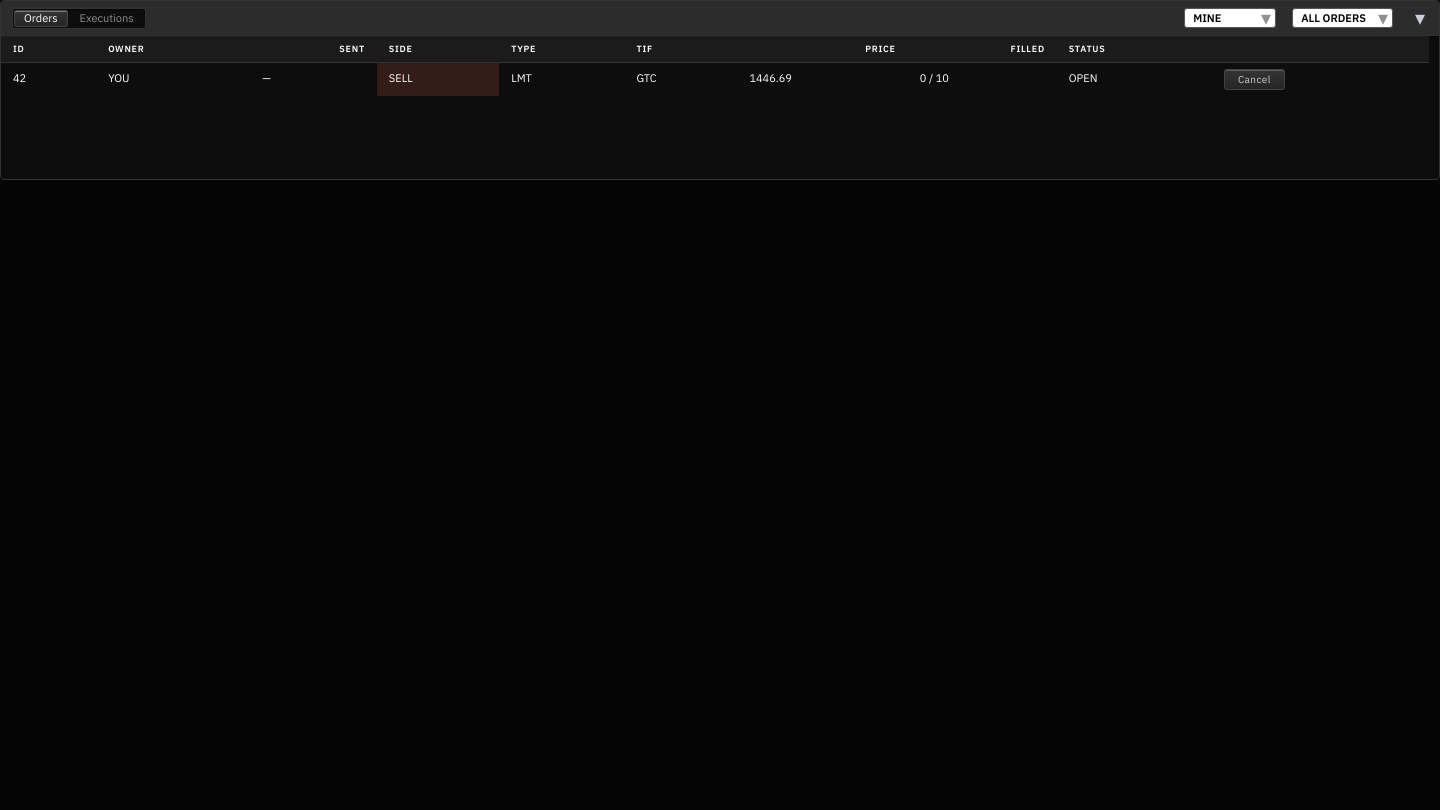
blotter cancel confirmation (D5) › closes without cancelling on Escape, the exit, and an outside click
Click the button with test id "cancel-42".
click(1254, 79)  # box [1224,69,1285,90]
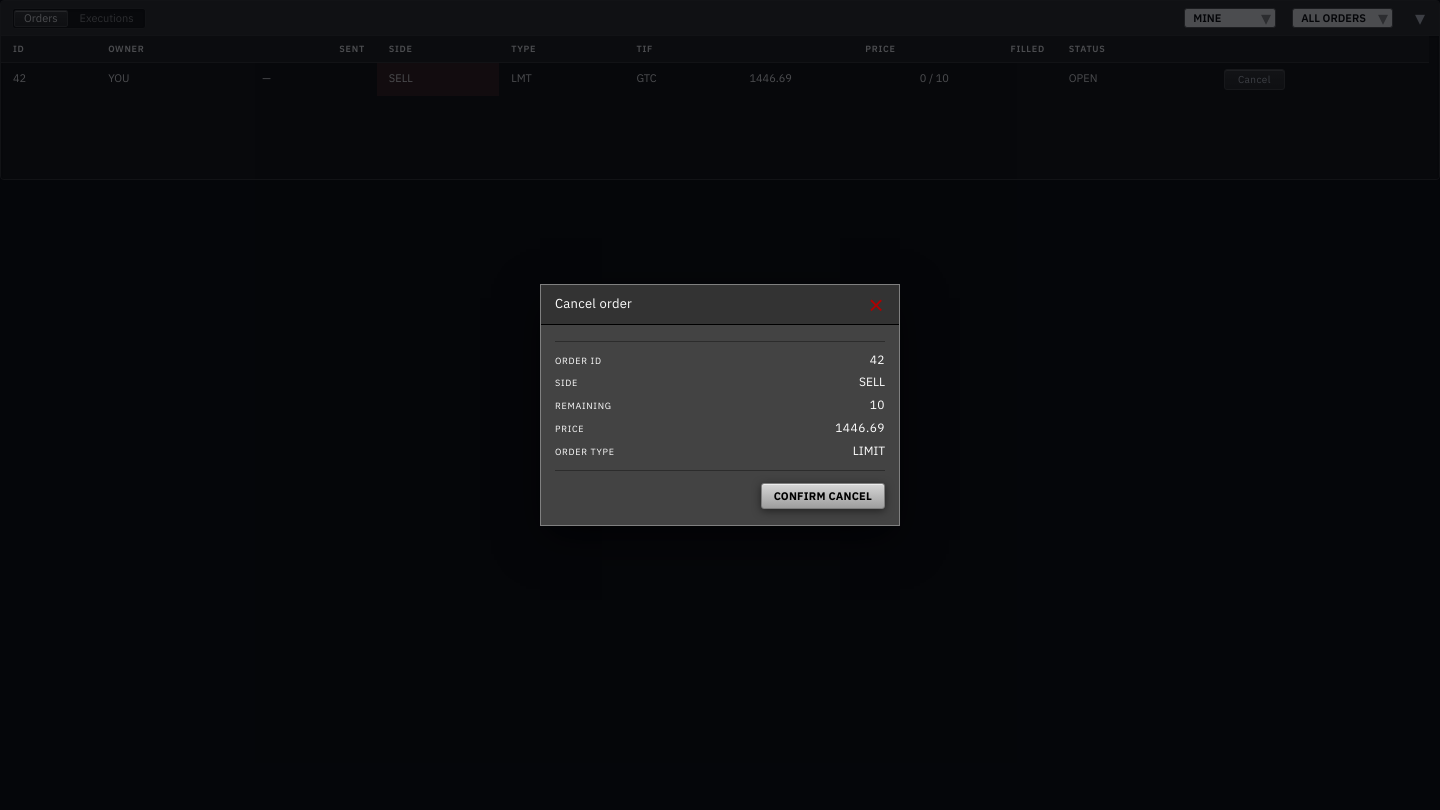
Press Escape
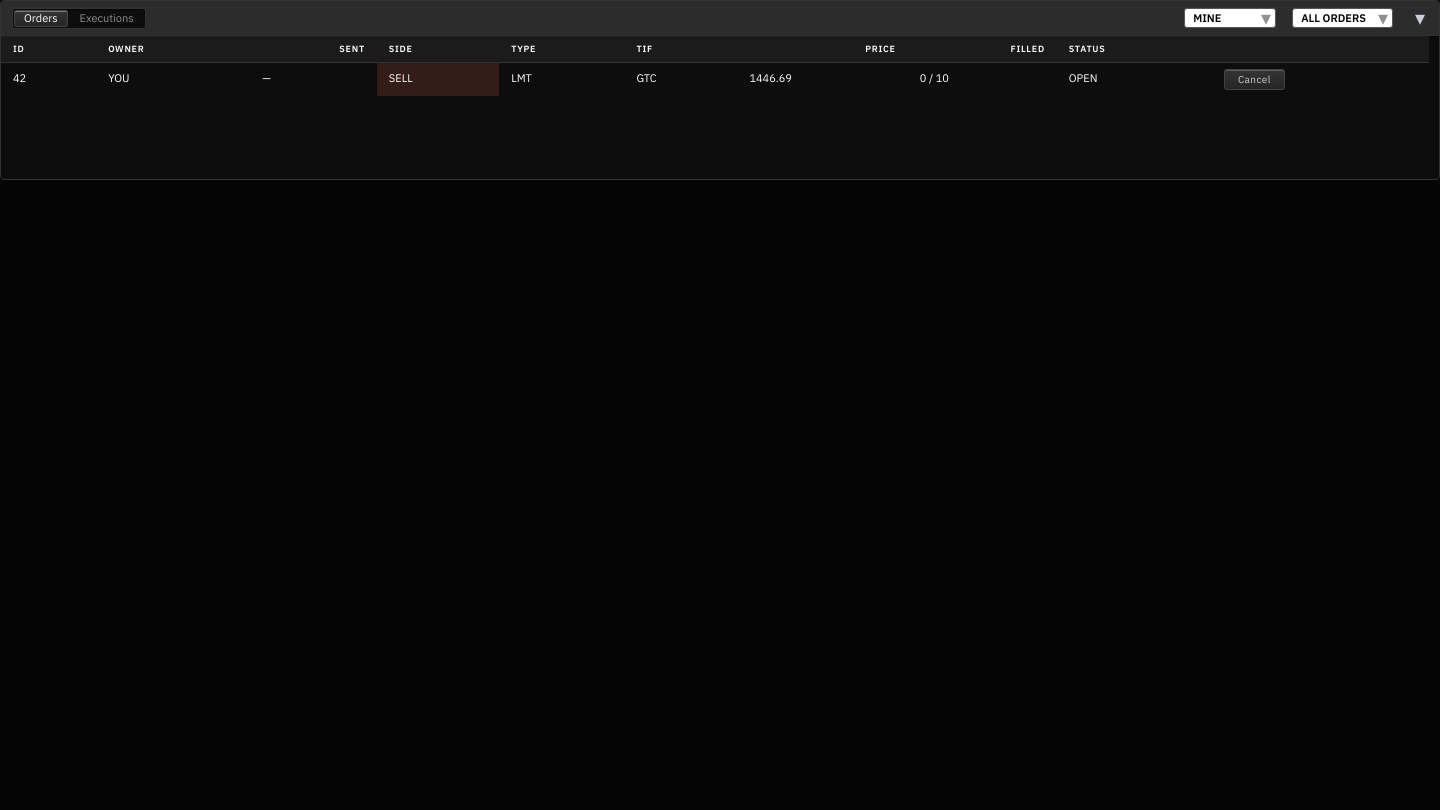
Expected: the dialog with test id "cancel-confirm" is gone
Click the button with test id "cancel-42".
click(1254, 79)  # box [1224,69,1285,90]
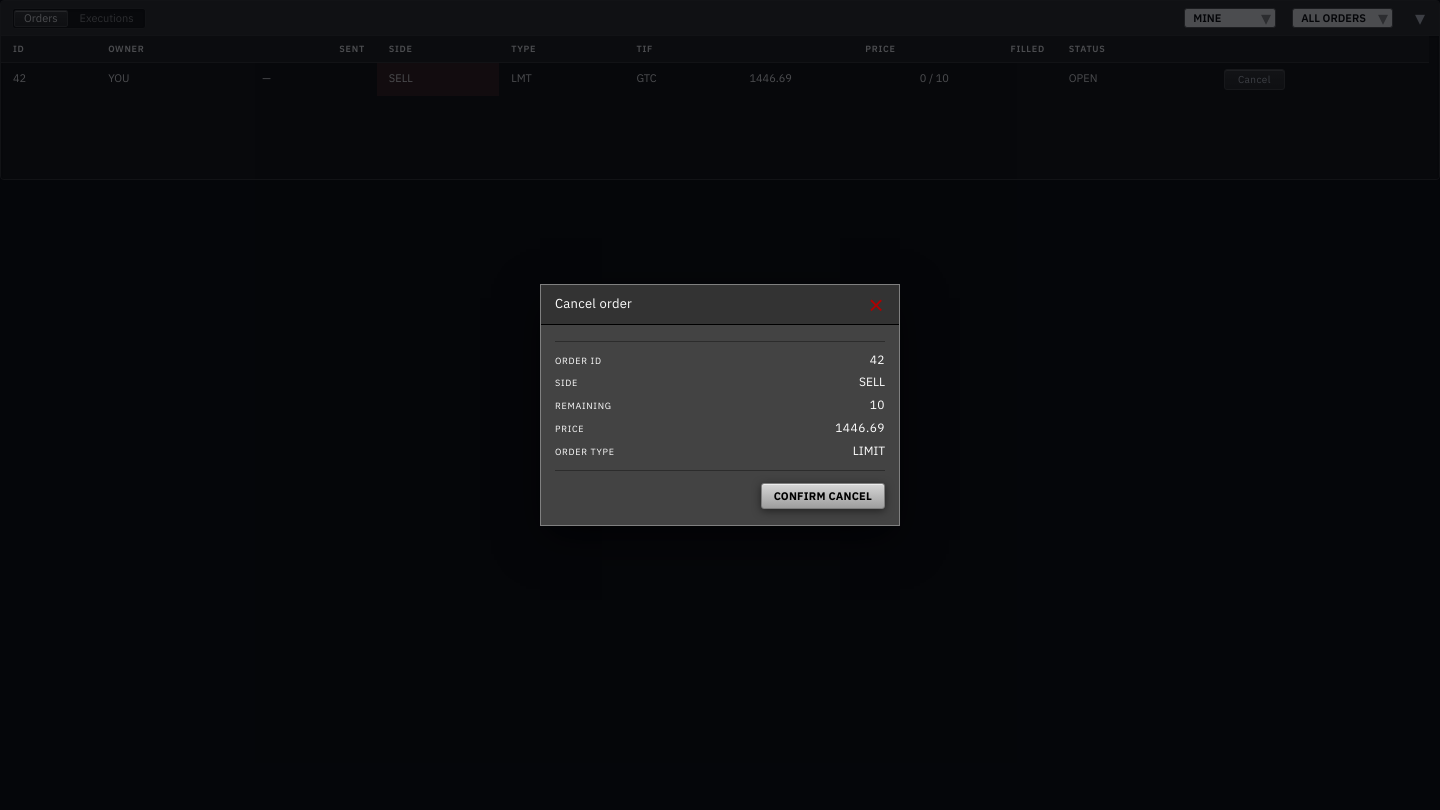
Click the button with test id "cancel-confirm-close".
click(876, 304)  # box [861,290,891,320]
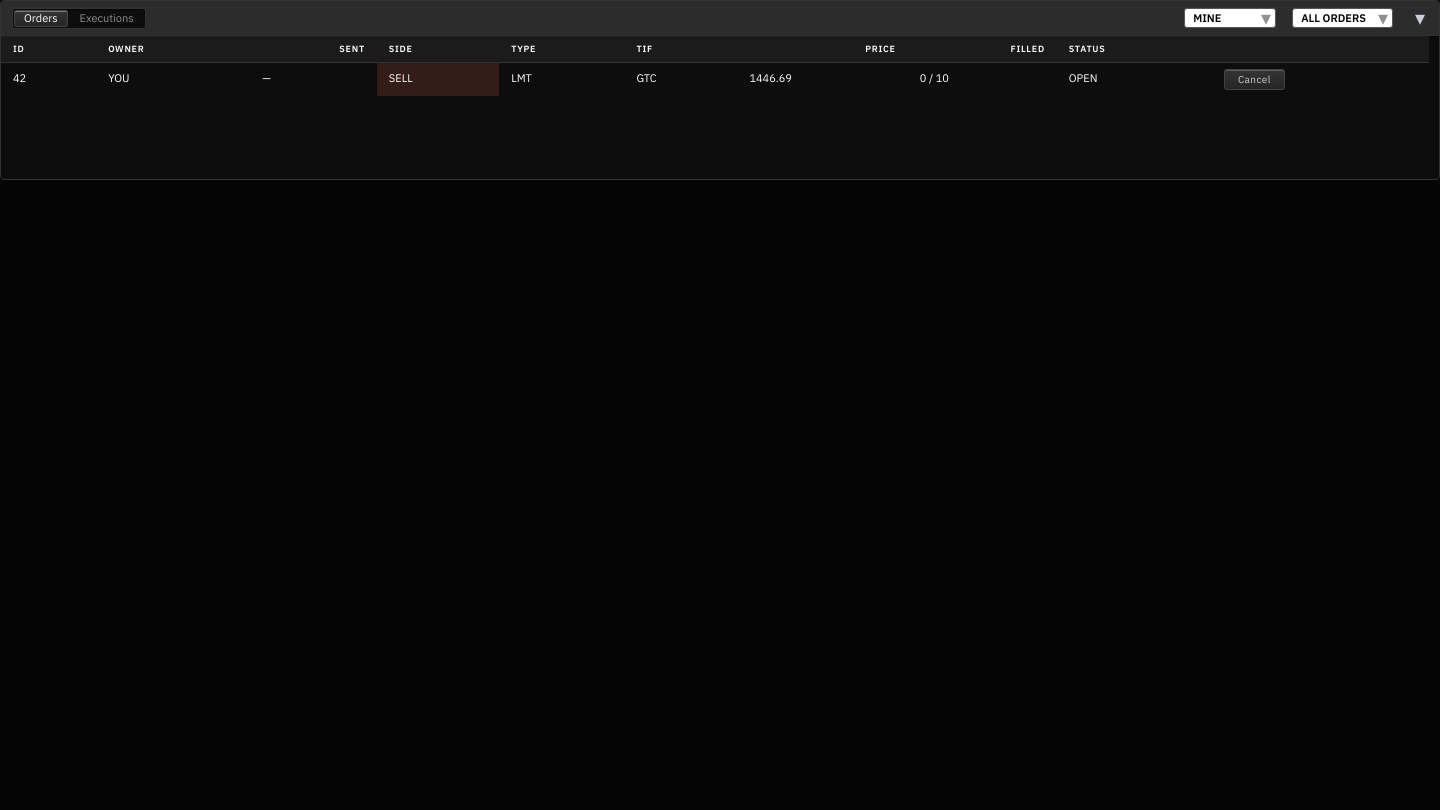
Expected: the dialog with test id "cancel-confirm" is gone
Click the button with test id "cancel-42".
click(1254, 79)  # box [1224,69,1285,90]
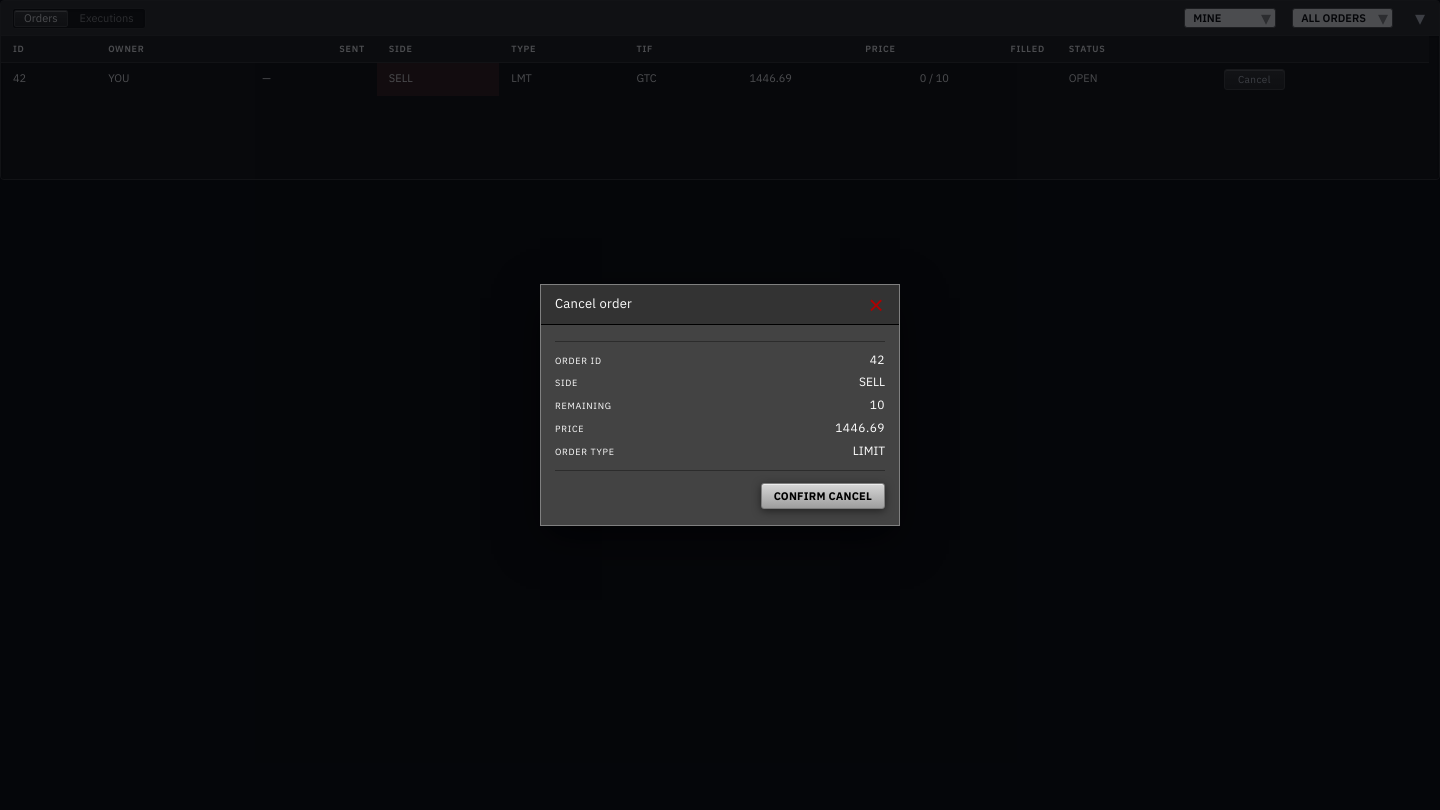
Press the mouse on the element with test id "cancel-confirm-overlay" at (720, 405), box [0,0,1439,809]
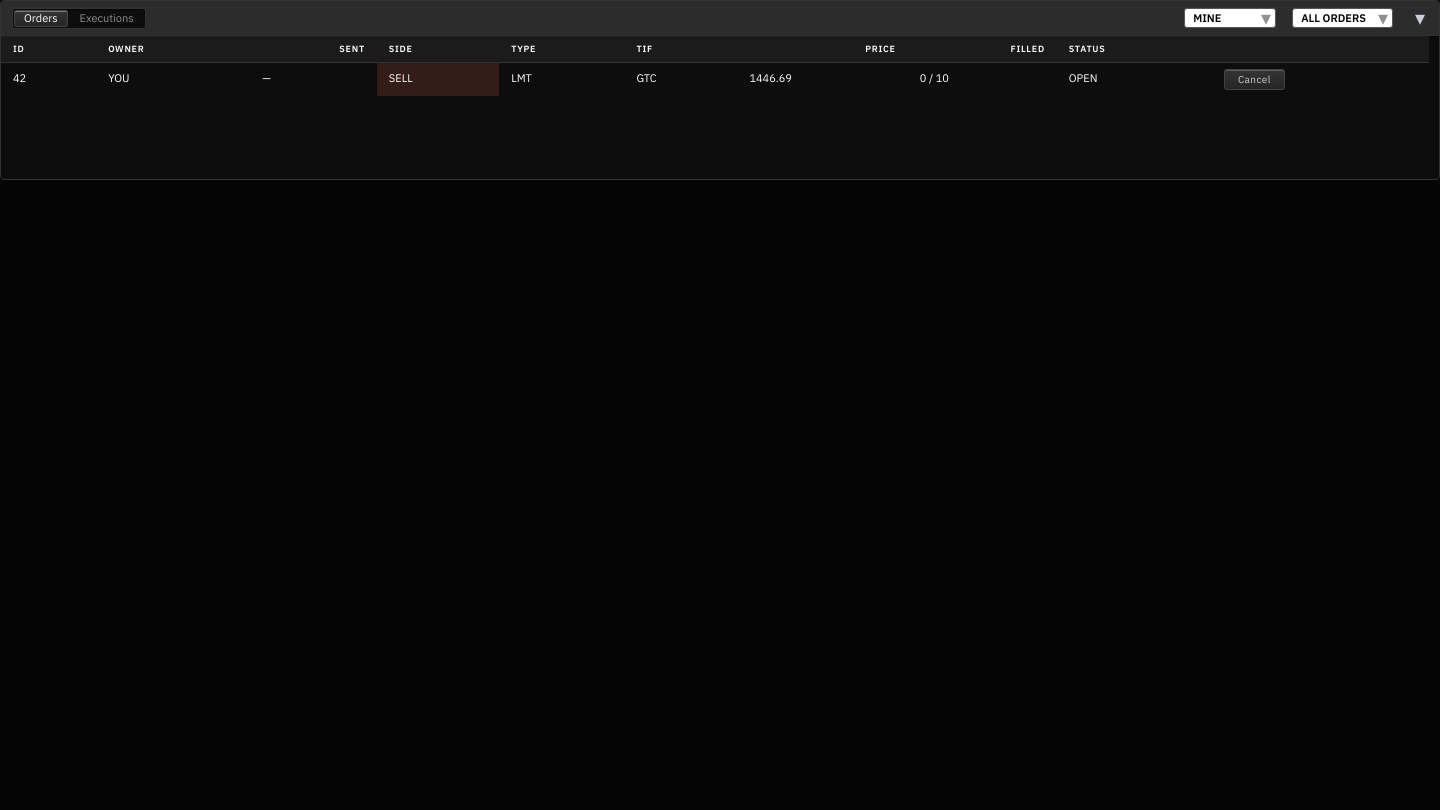
Expected: the dialog with test id "cancel-confirm" is gone
